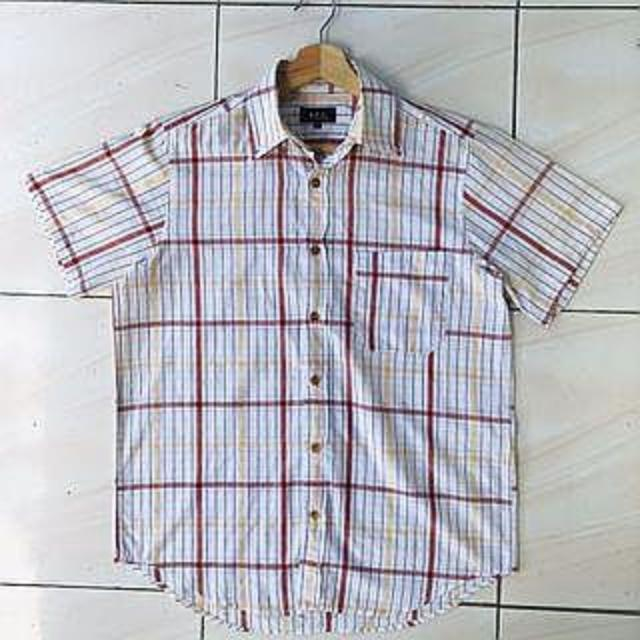SHIRT: (18, 45, 633, 636)
